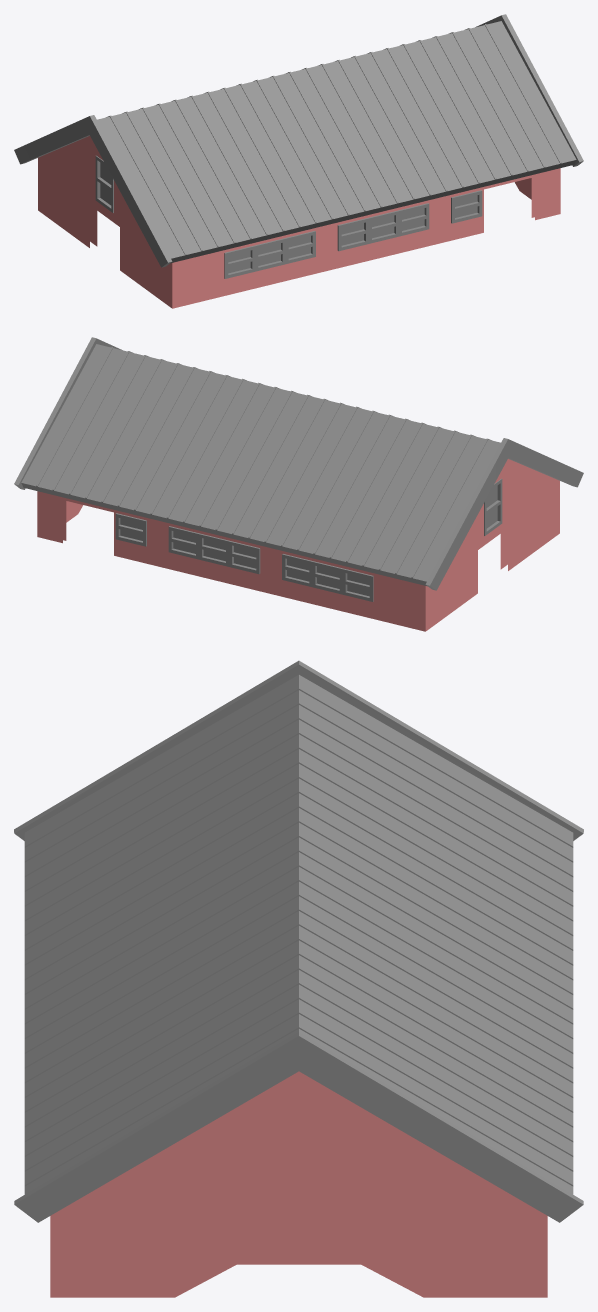
Rendered from BoatHouse03_Top.fbx.
The picture shows the model from 3 angles, top to bottom: view 1: azimuth 30°, elevation 25°; view 2: azimuth 150°, elevation 25°; view 3: azimuth 270°, elevation 25°; orthographic projection. The views are drawn at different scales.
Parts seen in each view (by area): view 1: SM_BoatHouse03_Boathouse03_Top; view 2: SM_BoatHouse03_Boathouse03_Top; view 3: SM_BoatHouse03_Boathouse03_Top.
Boxes of the visible parts, left/top/right/bottom form: SM_BoatHouse03_Boathouse03_Top: left=14, top=14, right=583, bottom=308; SM_BoatHouse03_Boathouse03_Top: left=14, top=337, right=583, bottom=631; SM_BoatHouse03_Boathouse03_Top: left=14, top=660, right=583, bottom=1297.
Bounding box in the file's own units: 1382 × 466 × 883.
